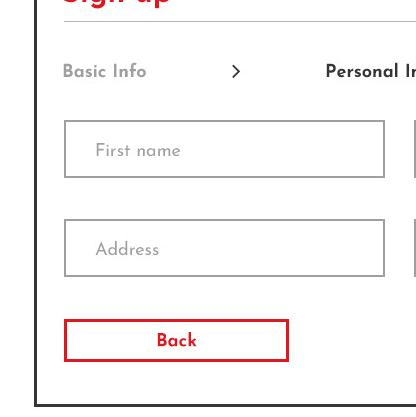button: (61, 315, 296, 365)
field: (61, 116, 387, 182), (61, 218, 389, 279)
